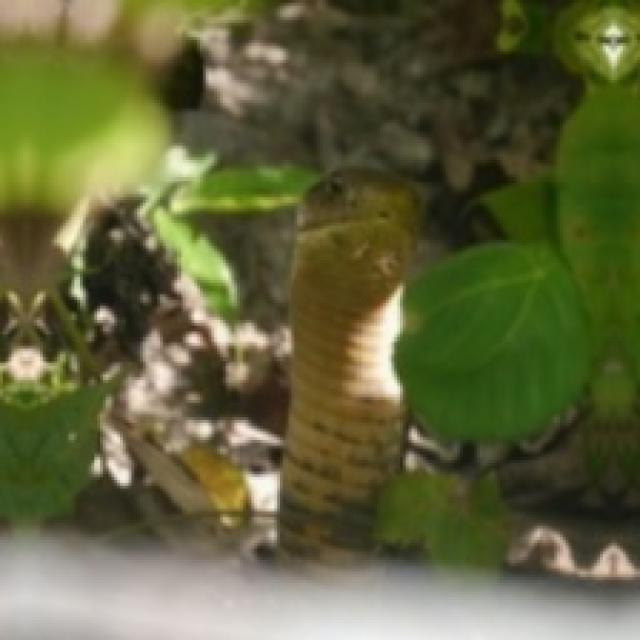king cobra: (280, 169, 417, 557), (280, 169, 417, 554), (446, 277, 551, 440), (380, 474, 503, 563)
